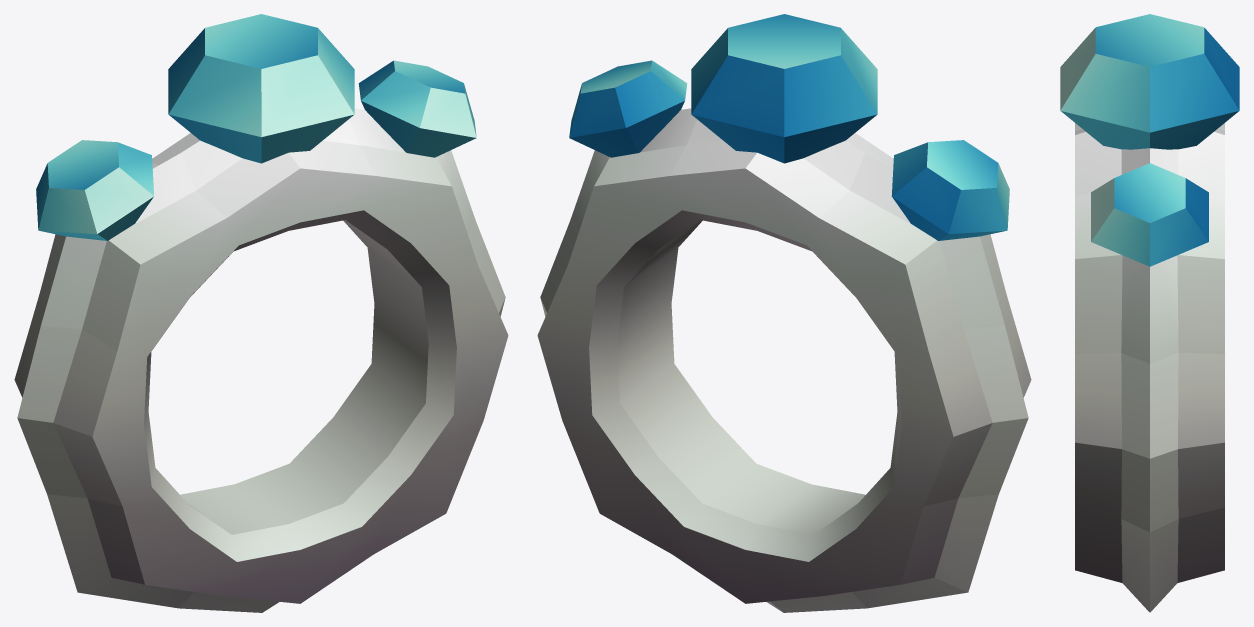
File: Silver_Gem_Ring_04.glb
3 renders of one model, left to right at view 1: azimuth 30°, elevation 25°; view 2: azimuth 150°, elevation 25°; view 3: azimuth 270°, elevation 25°, orthographic. The views are drawn at different scales.
Visible parts, largest first — view 1: Silver_Gem_Ring_04; view 2: Silver_Gem_Ring_04; view 3: Silver_Gem_Ring_04.
Part boxes in pixels (x1,y1,x2,y2): Silver_Gem_Ring_04: (14,14,508,612); Silver_Gem_Ring_04: (537,14,1031,612); Silver_Gem_Ring_04: (1060,14,1239,612).
Size of the model in its own units: 0.5345 by 0.5979 by 0.1765.
1 material, 1 textured.
